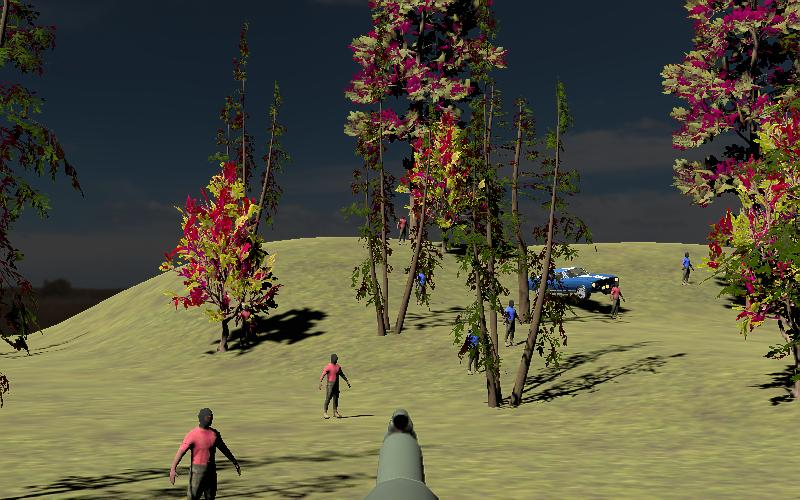Human: (169, 406, 241, 499), (319, 352, 351, 419), (503, 299, 522, 348), (464, 326, 481, 374), (609, 280, 624, 320), (680, 251, 694, 287)
car: (530, 264, 619, 302)
